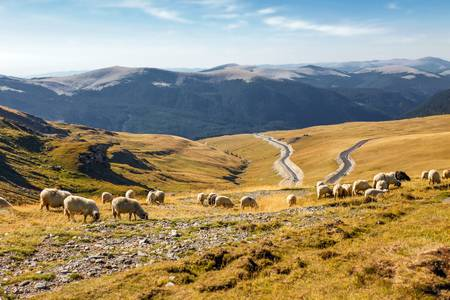sheep: (110, 198, 151, 224), (63, 195, 101, 222), (37, 185, 66, 216), (383, 171, 413, 187), (350, 180, 372, 197), (363, 188, 391, 201), (145, 190, 166, 205), (238, 196, 260, 210), (315, 186, 334, 202), (214, 196, 234, 210), (426, 167, 440, 187), (284, 193, 299, 208), (98, 187, 112, 203), (196, 191, 209, 208), (331, 181, 343, 199), (374, 179, 392, 190), (124, 187, 136, 198)
